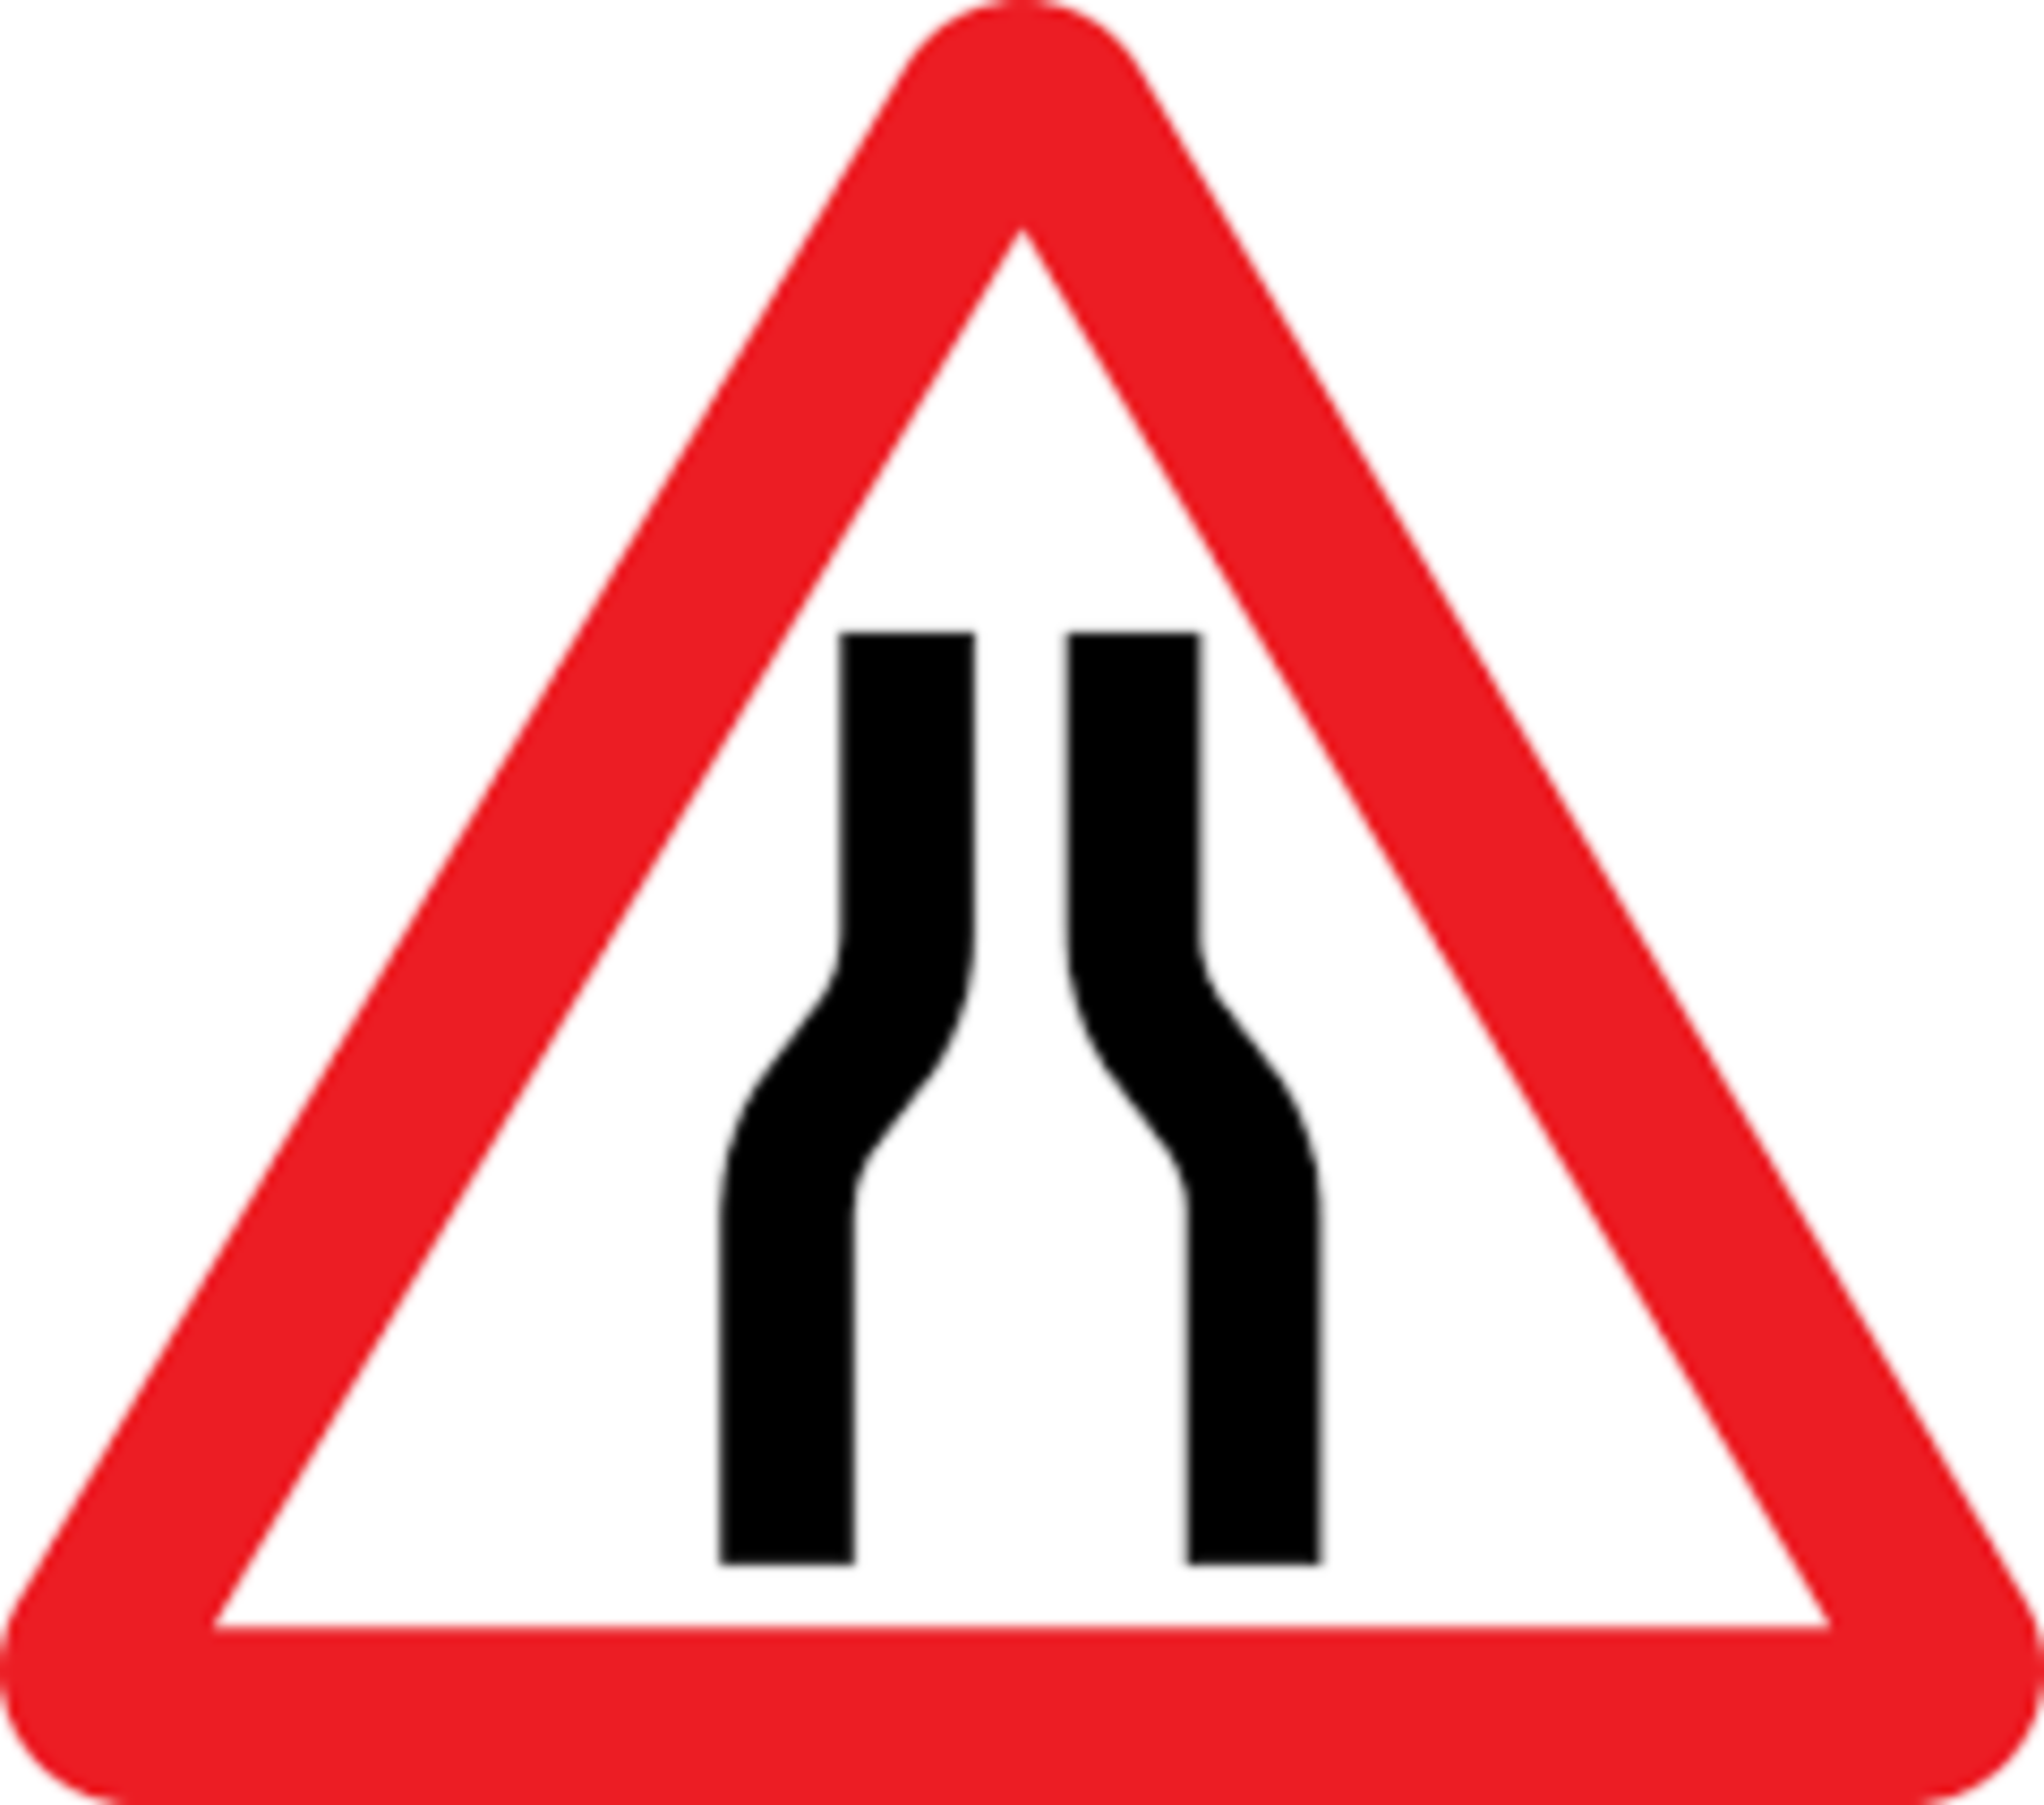Narrow_road: (10, 2, 2044, 1796)
